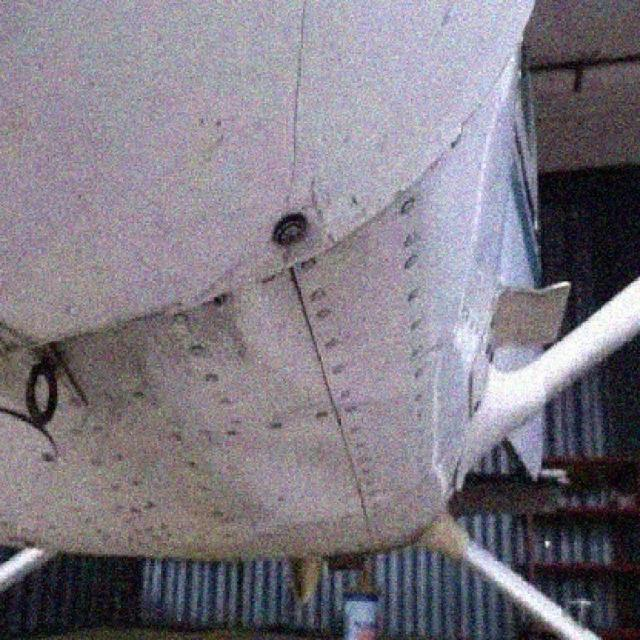dent: (240, 272, 363, 403), (230, 434, 363, 517)
